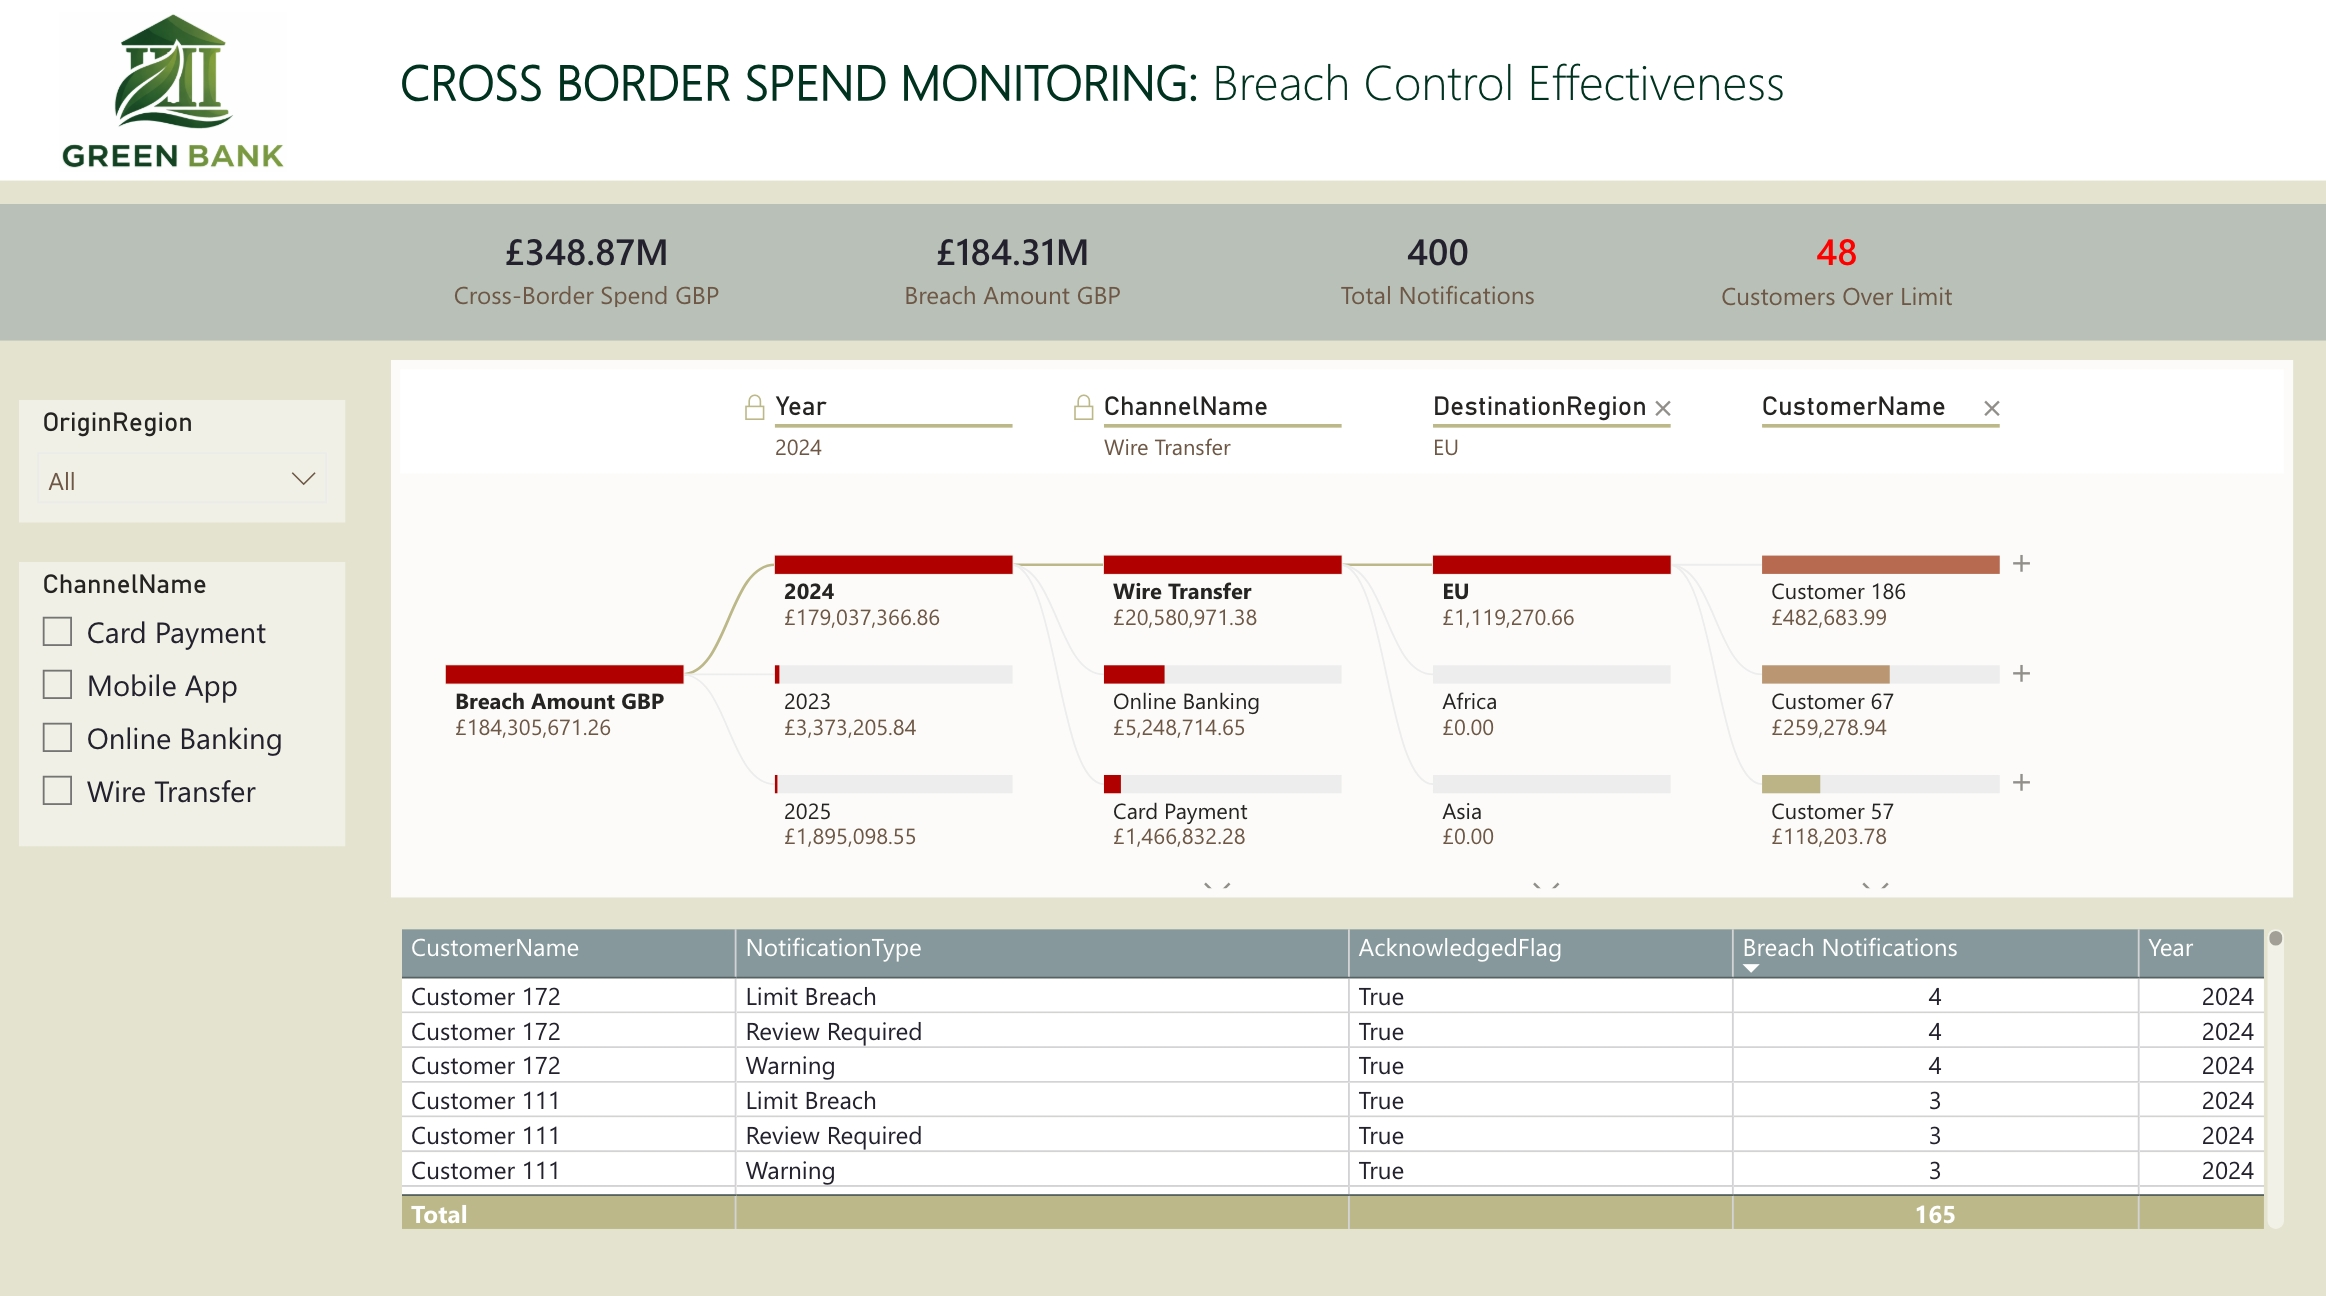

What the dashboard file says about the page in this screenshot:
{"tool":"powerbi","page":{"name":"Breach Control Effectiveness","canvas":[1280,720],"ordinal":2},"visuals":[{"type":"shape","box":[0,0,1280,104.3],"z":0},{"type":"image","box":[37,0,124.9,111.1],"z":1000},{"type":"textbox","box":[218.4,26.5,776.9,53.1],"z":2000},{"type":"shape","box":[0,117,1280,74.8],"z":3000},{"type":"slicer","fields":{"Values":["DimBranch.Region"]},"box":[15.7,224.1,178.4,67.1],"z":4000},{"type":"cardVisual","fields":{"Data":["CustomMeasures.Cross-Border Spend GBP"]},"box":[218.6,112.7,214.3,78.6],"z":5000},{"type":"cardVisual","fields":{"Data":["Count(FactNotification.NotificationID)"]},"box":[685.6,112.8,211.1,78.4],"z":6000},{"type":"cardVisual","fields":{"Data":["CustomMeasures.Customers Over Limit"]},"box":[915.9,112.3,188.7,79.5],"z":7000},{"type":"decompositionTreeVisual","fields":{"ExplainBy":["DimDate.Year","DimChannel.ChannelName","DimCountry.Region","DimCustomer.CustomerName","DimCountry.CountryName"],"Analyze":["CustomMeasures.Breach Amount GBP"]},"box":[218.4,202,1040.4,294.2],"z":8000},{"type":"cardVisual","fields":{"Data":["CustomMeasures.Breach Amount GBP"]},"box":[452.1,112.7,214.3,78.6],"z":9000},{"type":"slicer","fields":{"Values":["DimChannel.ChannelName"]},"box":[15.7,312.6,178.4,155.6],"z":10002},{"type":"tableEx","fields":{"Values":["DimCustomer.CustomerName","FactNotification.NotificationType","FactNotification.AcknowledgedFlag","CustomMeasures.Breach Notifications","DimDate.Year"]},"box":[218.4,508.8,1040.4,174.2],"z":10003}]}

Visuals, with their boxes in screenshot pixels (x1, y1, x2, y2), scaled from the page's 1280x720 canvas onto the 2326x1296 screenshot:
shape: region(0, 0, 2325, 188)
image: region(67, 0, 294, 200)
textbox: region(397, 48, 1809, 143)
shape: region(0, 211, 2325, 345)
slicer - DimBranch.Region: region(29, 403, 353, 524)
cardVisual - CustomMeasures.Cross-Border Spend GBP: region(397, 203, 787, 344)
cardVisual - Count(FactNotification.NotificationID): region(1246, 203, 1629, 344)
cardVisual - CustomMeasures.Customers Over Limit: region(1664, 202, 2007, 345)
decompositionTreeVisual - DimDate.Year x DimChannel.ChannelName: region(397, 364, 2287, 893)
cardVisual - CustomMeasures.Breach Amount GBP: region(822, 203, 1211, 344)
slicer - DimChannel.ChannelName: region(29, 563, 353, 843)
tableEx - DimCustomer.CustomerName x FactNotification.NotificationType: region(397, 916, 2287, 1229)
